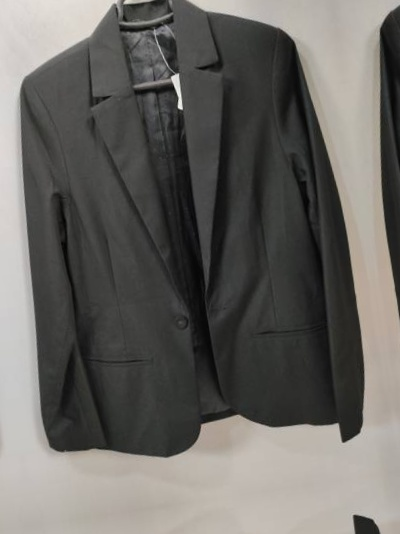Blazer: (0, 0, 392, 488), (332, 0, 400, 433), (0, 22, 20, 534), (44, 509, 400, 534)
